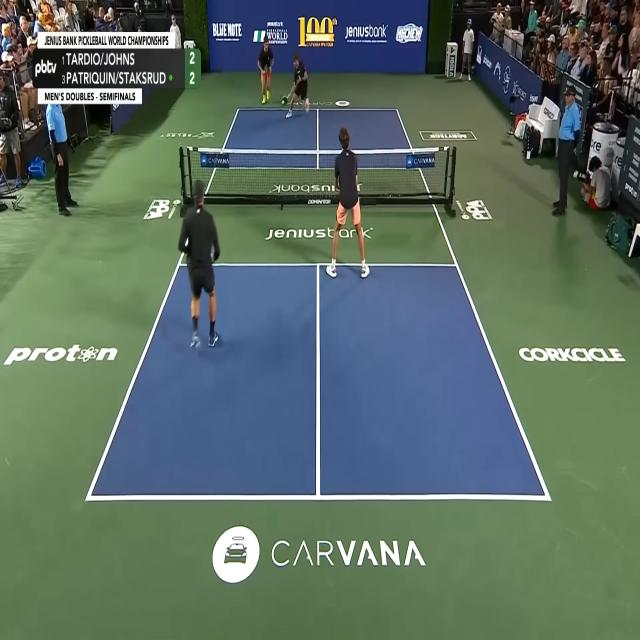ball: (281, 100, 285, 104)
